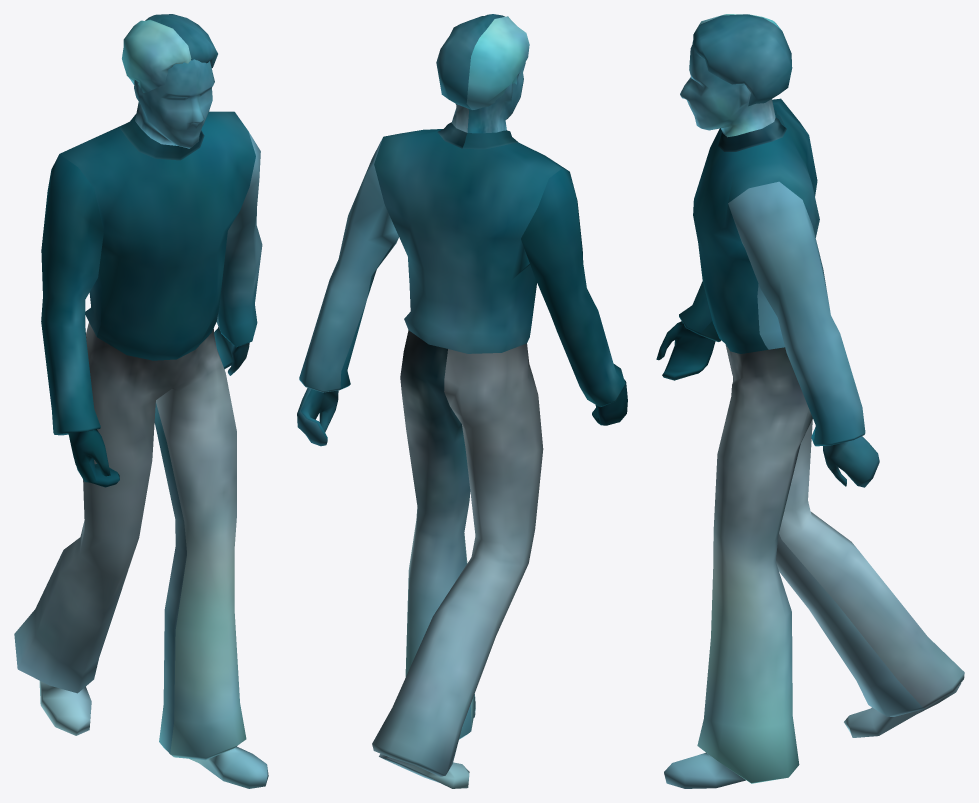
File: simpleMan04.obj
The picture shows the model from 3 angles, left to right: view 1: azimuth 30°, elevation 25°; view 2: azimuth 150°, elevation 25°; view 3: azimuth 270°, elevation 25°; orthographic projection. The views are drawn at different scales.
Visible parts, largest first — view 1: uomo; view 2: uomo; view 3: uomo.
Boxes of the visible parts, x1,y1,x2,y2 form: uomo: (14,14,268,788); uomo: (297,14,627,788); uomo: (656,14,964,788).
Bounding box in the file's own units: 1.8 × 4.96 × 1.87.
1 material, 1 textured.
